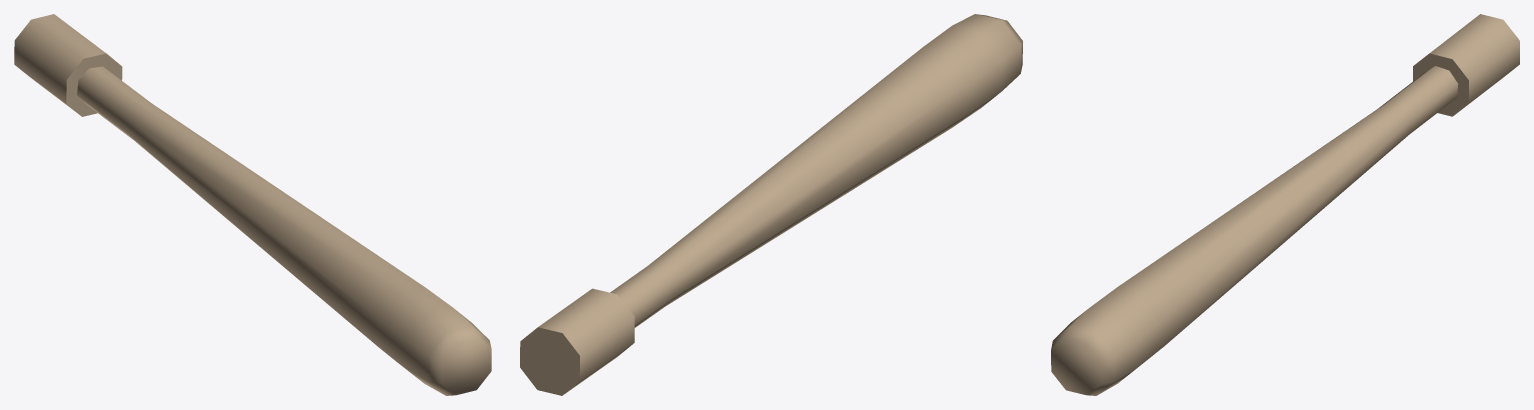
The model's file is Bat.fbx.
The picture shows the model from 3 angles, left to right: view 1: azimuth 30°, elevation 25°; view 2: azimuth 150°, elevation 25°; view 3: azimuth 330°, elevation 25°; orthographic projection. The views are drawn at different scales.
Parts seen in each view (by area): view 1: Cube.002; view 2: Cube.002; view 3: Cube.002.
Part boxes in pixels (x1,y1,x2,y2): Cube.002: (14, 14, 491, 395); Cube.002: (520, 14, 1022, 395); Cube.002: (1051, 14, 1519, 395).
Size of the model in its own units: 9.38 by 10.3 by 102.
